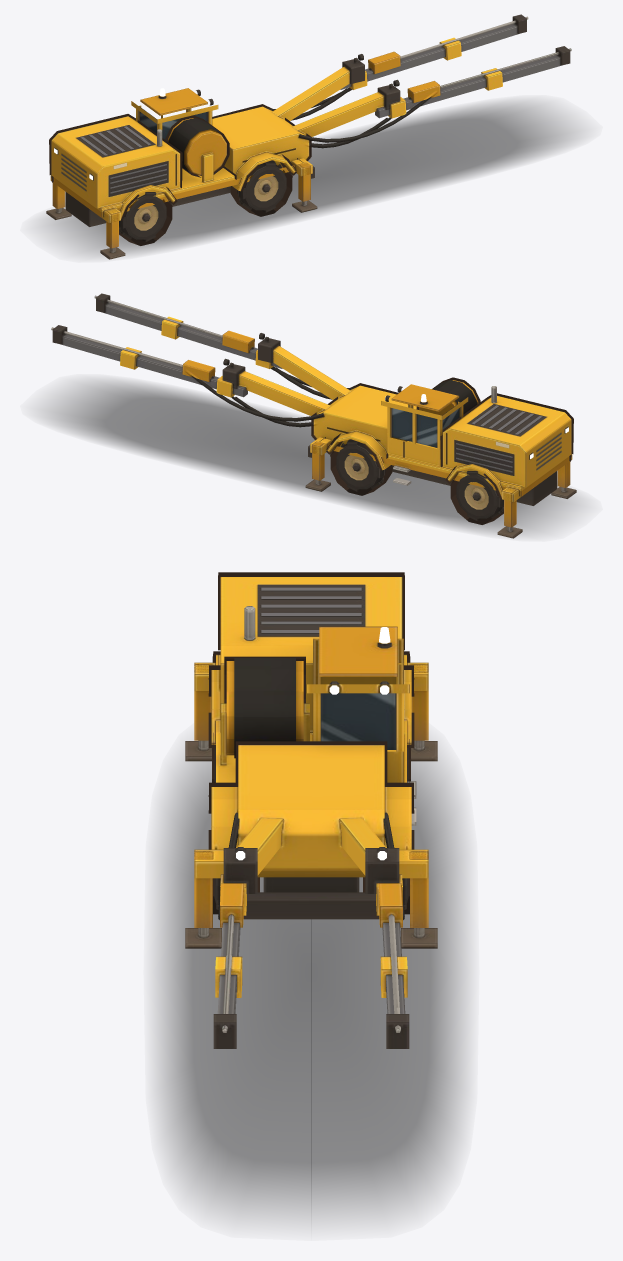
Rendered from drill.glb.
3 renders of one model, top to bottom at view 1: azimuth 30°, elevation 25°; view 2: azimuth 150°, elevation 25°; view 3: azimuth 270°, elevation 25°, orthographic. The views are drawn at different scales.
Parts seen in each view (by area): view 1: drill_body, SHADOW, WHEEL_FR, WHEEL_RR; view 2: drill_body, SHADOW, WHEEL_FL, WHEEL_RL; view 3: SHADOW, drill_body.
Boxes of the visible parts, box(x1,y1,x2,y2) form: drill_body: box(46, 14, 571, 259); SHADOW: box(43, 102, 579, 255); WHEEL_FR: box(230, 160, 292, 216); WHEEL_RR: box(119, 192, 172, 245); drill_body: box(51, 293, 576, 538); SHADOW: box(43, 381, 579, 534); WHEEL_FL: box(330, 439, 392, 495); WHEEL_RL: box(450, 471, 503, 524); SHADOW: box(157, 760, 465, 1225); drill_body: box(185, 572, 437, 1048).
Bounding box in the file's own units: 25.26 × 4.71 × 6.68.
Materials: 3 (1 with a texture image).
